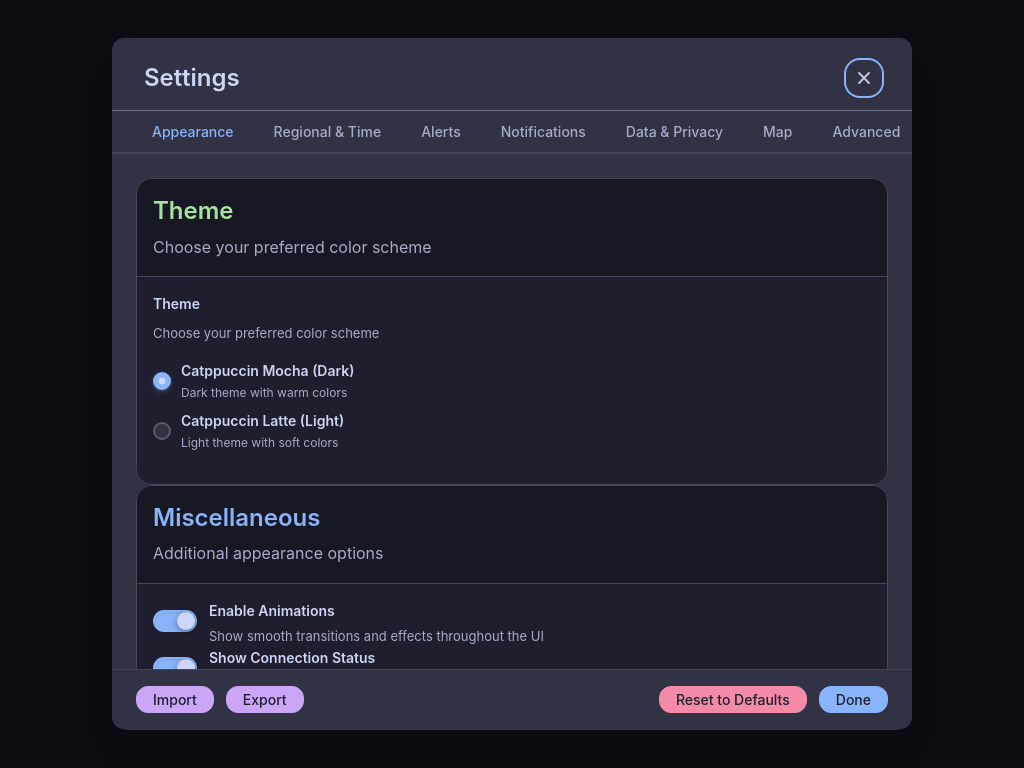
Test: SettingsModal › Data & Privacy Settings › should display data settings
Click the tab "Data & Privacy" at (674, 133), box 610,111 -> 739,154
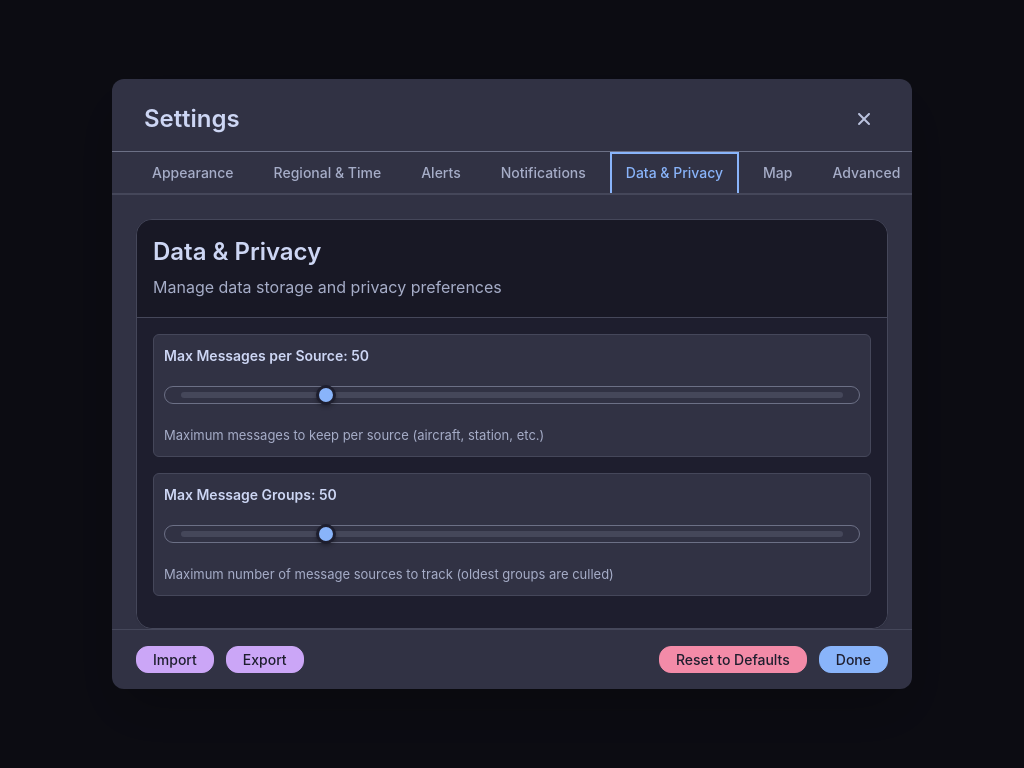
expect the text "Max Messages per Source: 50" is shown: met, box 164,346 -> 369,364
expect the text "Max Message Groups: 50" is shown: met, box 164,486 -> 337,503
